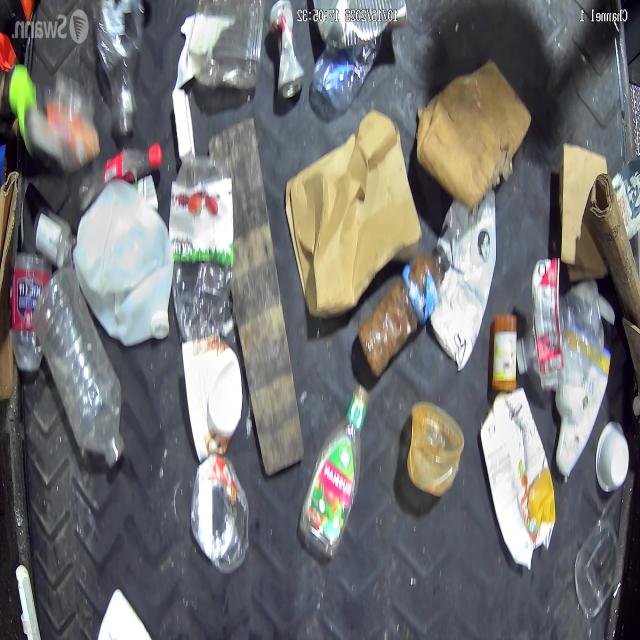can: (272, 0, 304, 98)
milk_jug: (76, 185, 172, 352)
plastic_bottle: (38, 271, 123, 470), (171, 152, 237, 346), (518, 284, 604, 376), (95, 0, 143, 121), (314, 25, 381, 106), (8, 248, 46, 382)
